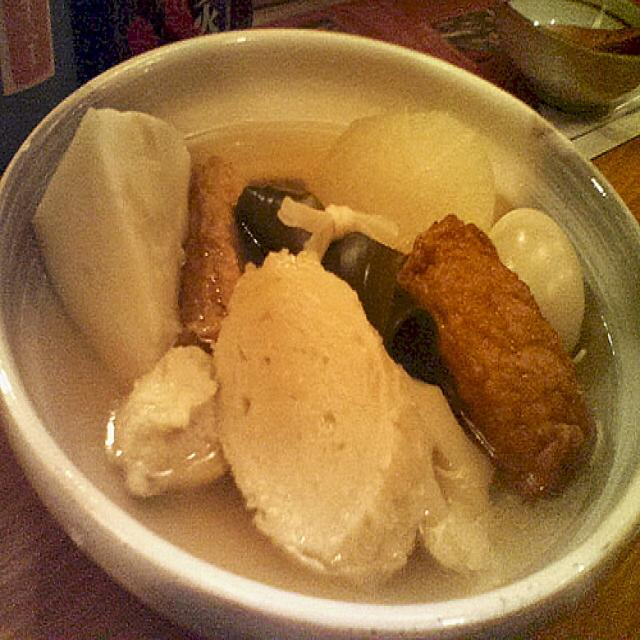汤锅炖物: (22, 102, 627, 580)
